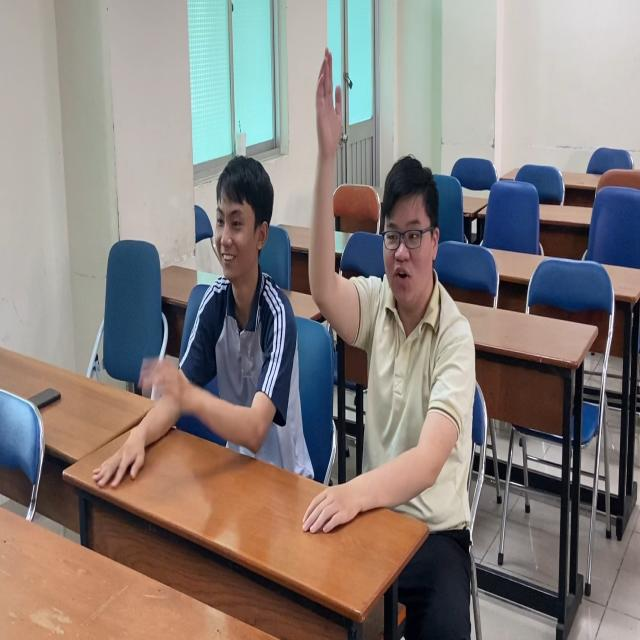raise_hand: (309, 43, 478, 556)
